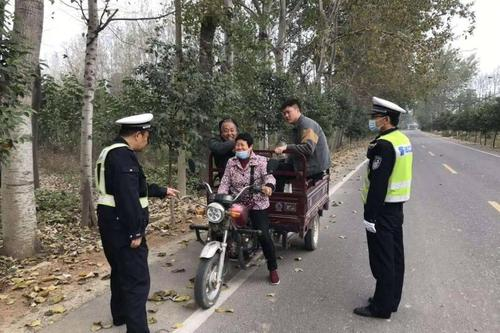driver: (204, 129, 294, 300)
overloading: (175, 48, 340, 319)
passenger: (263, 78, 344, 196), (196, 110, 246, 169)
